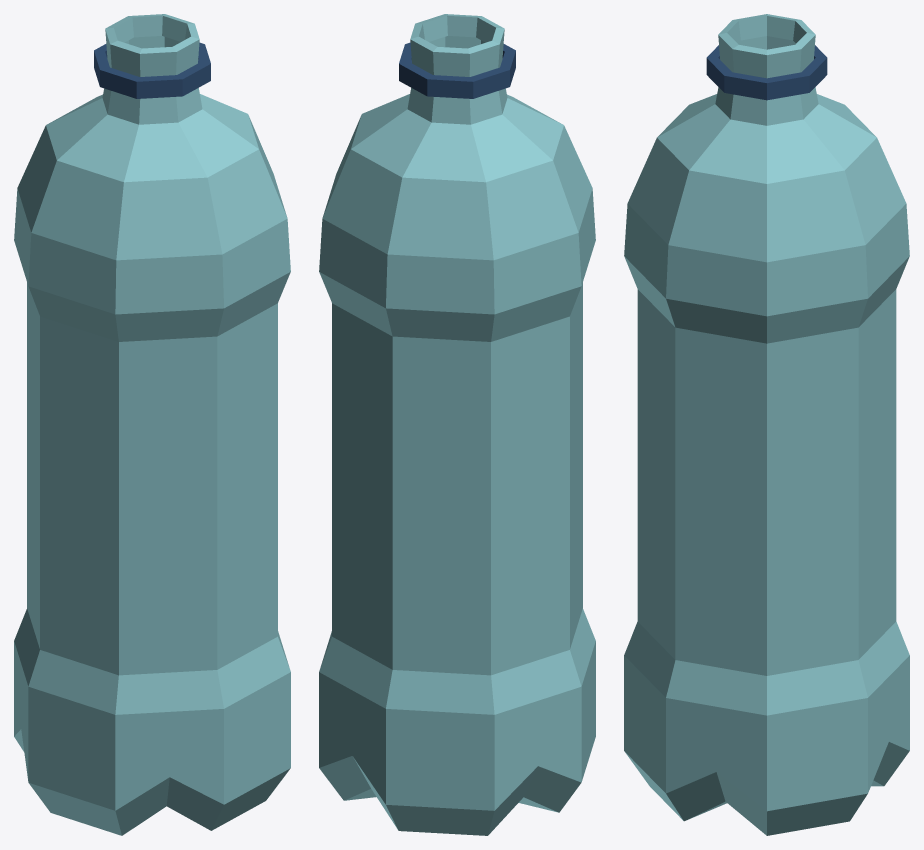
File: SM_Prop_PlasticBottle_01_Open.obj
The picture shows the model from 3 angles, left to right: view 1: azimuth 30°, elevation 25°; view 2: azimuth 150°, elevation 25°; view 3: azimuth 270°, elevation 25°; orthographic projection.
Parts seen in each view (by area): view 1: SM_Prop_PlasticBottle_01_Open_0, SM_Prop_PlasticBottle_01_Open_1; view 2: SM_Prop_PlasticBottle_01_Open_0, SM_Prop_PlasticBottle_01_Open_1; view 3: SM_Prop_PlasticBottle_01_Open_0, SM_Prop_PlasticBottle_01_Open_1.
Part boxes in pixels (x1,y1,x2,y2): SM_Prop_PlasticBottle_01_Open_0: [14, 14, 290, 835]; SM_Prop_PlasticBottle_01_Open_1: [94, 42, 210, 98]; SM_Prop_PlasticBottle_01_Open_0: [319, 14, 595, 835]; SM_Prop_PlasticBottle_01_Open_1: [399, 42, 515, 98]; SM_Prop_PlasticBottle_01_Open_0: [624, 14, 909, 835]; SM_Prop_PlasticBottle_01_Open_1: [706, 45, 827, 100].
Size of the model in its own units: 0.1445 by 0.4204 by 0.1445.
Materials: 2 (1 with a texture image).
